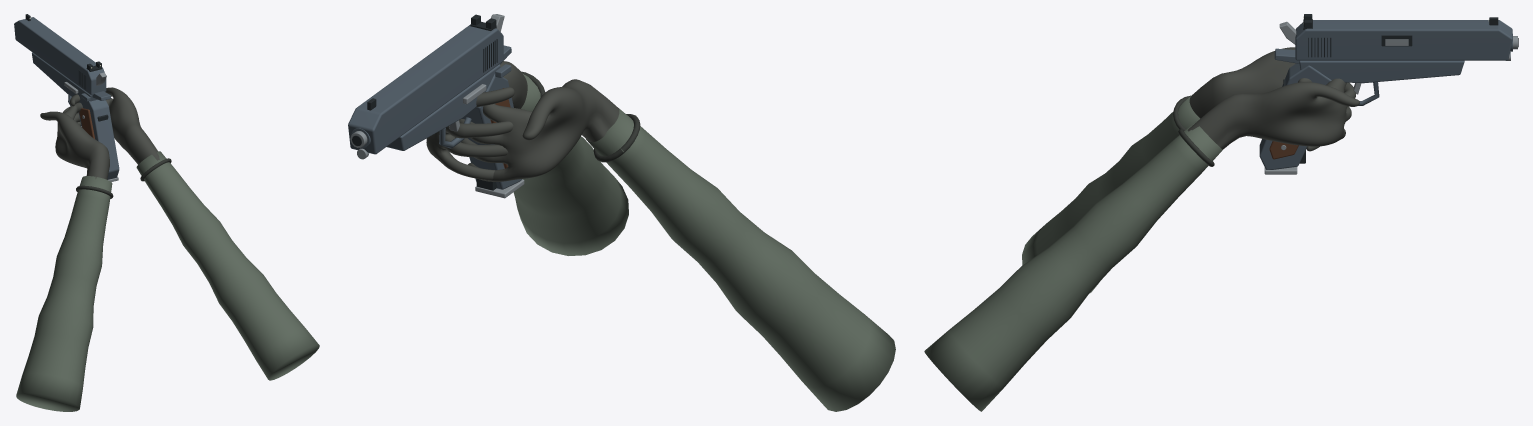
The picture shows the model from 3 angles, left to right: view 1: azimuth 30°, elevation 25°; view 2: azimuth 150°, elevation 25°; view 3: azimuth 270°, elevation 25°; orthographic projection. The views are drawn at different scales.
Parts seen in each view (by area): view 1: Forearm sleeve r, Forearm sleeve l, Slide forging, Glove continuous mesh l, Glove continuous mesh r, Grip frame, Receiver, Walnut grip -1; view 2: Forearm sleeve l, Forearm sleeve r, Glove continuous mesh l, Slide forging, Glove continuous mesh r, Receiver, Grip frame, Wrist cuff seam l; view 3: Forearm sleeve r, Slide forging, Glove continuous mesh r, Forearm sleeve l, Glove continuous mesh l, Receiver, Grip frame.
Part boxes in pixels (left/top/right/bottom): Forearm sleeve r: left=136, top=151, right=319, bottom=380; Forearm sleeve l: left=16, top=176, right=112, bottom=411; Slide forging: left=14, top=17, right=106, bottom=95; Glove continuous mesh l: left=40, top=102, right=109, bottom=179; Glove continuous mesh r: left=63, top=87, right=159, bottom=164; Grip frame: left=78, top=98, right=119, bottom=179; Receiver: left=32, top=52, right=97, bottom=101; Walnut grip -1: left=79, top=108, right=94, bottom=138; Forearm sleeve l: left=586, top=108, right=895, bottom=411; Forearm sleeve r: left=513, top=74, right=628, bottom=255; Glove continuous mesh l: left=455, top=79, right=620, bottom=181; Slide forging: left=348, top=24, right=503, bottom=154; Glove continuous mesh r: left=426, top=61, right=527, bottom=180; Receiver: left=387, top=64, right=500, bottom=150; Grip frame: left=462, top=73, right=521, bottom=189; Wrist cuff seam l: left=593, top=114, right=640, bottom=162; Forearm sleeve r: left=924, top=121, right=1222, bottom=411; Slide forging: left=1295, top=20, right=1512, bottom=60; Glove continuous mesh r: left=1187, top=78, right=1359, bottom=149; Forearm sleeve l: left=1022, top=95, right=1200, bottom=293; Glove continuous mesh l: left=1189, top=47, right=1319, bottom=151; Receiver: left=1299, top=60, right=1464, bottom=83; Grip frame: left=1259, top=63, right=1331, bottom=169.
Bounding box in the file's own units: 0.4608 × 0.4412 × 0.6561.
